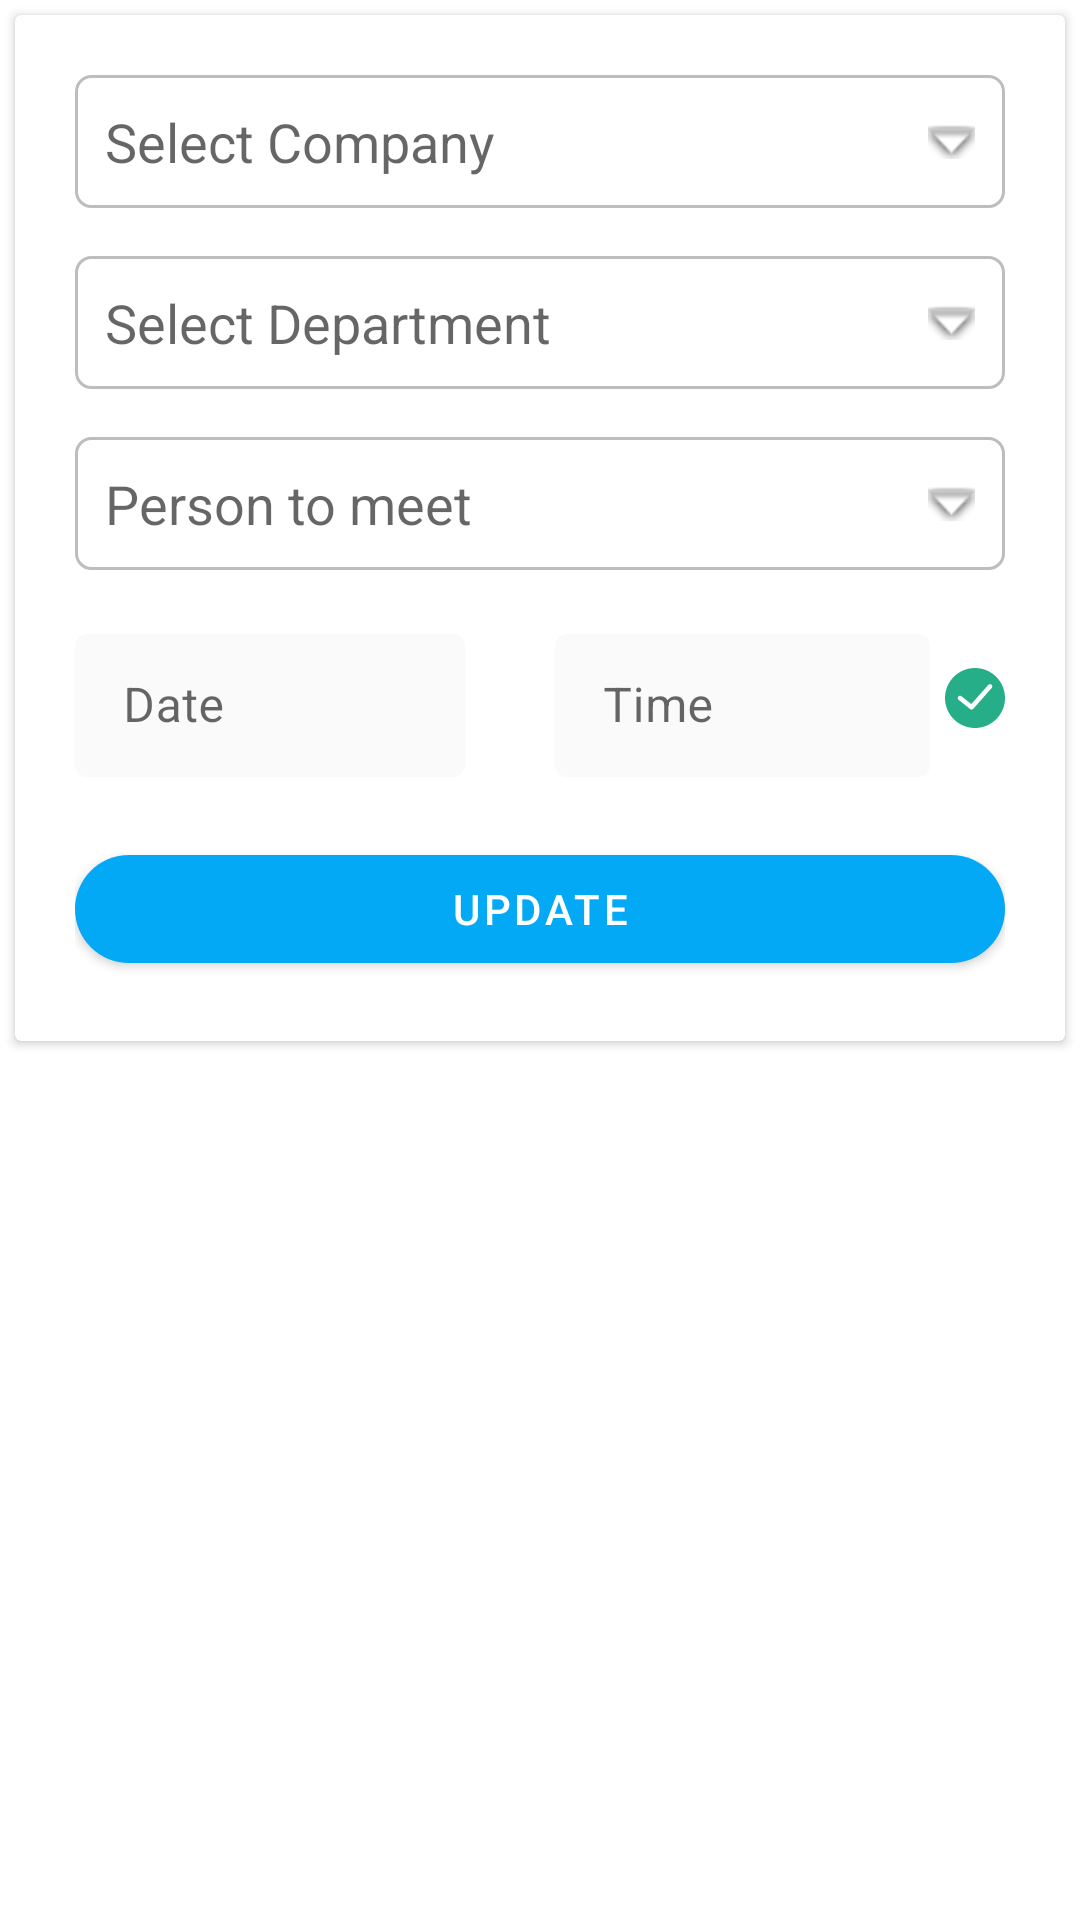

Screen size 1080x1920. Icon name, then its center in pixels as (x=x, y=y):
success: (x=975, y=698)
